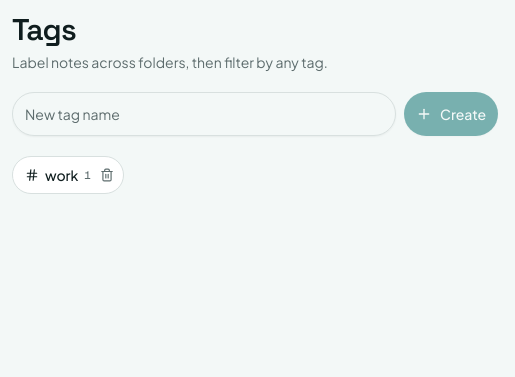
TagsPage › filters notes by the selected tag
The width and height of the screenshot is (515, 377).
Click the button with test id "tags.filter_button.1" at [58, 175], box [25, 161, 91, 189]
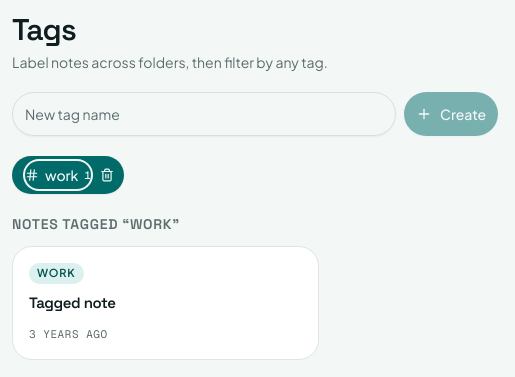
Check: the heading "Tagged note" is shown, box [29, 292, 116, 312]
